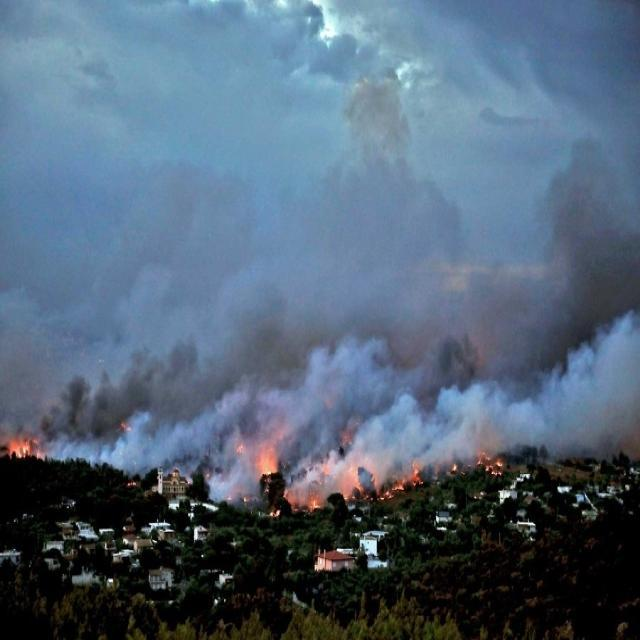Fire: (376, 460, 424, 500), (8, 439, 30, 462), (484, 460, 504, 480), (260, 456, 278, 476), (308, 500, 320, 512), (268, 508, 282, 517)
Smoke: (1, 1, 640, 517)
